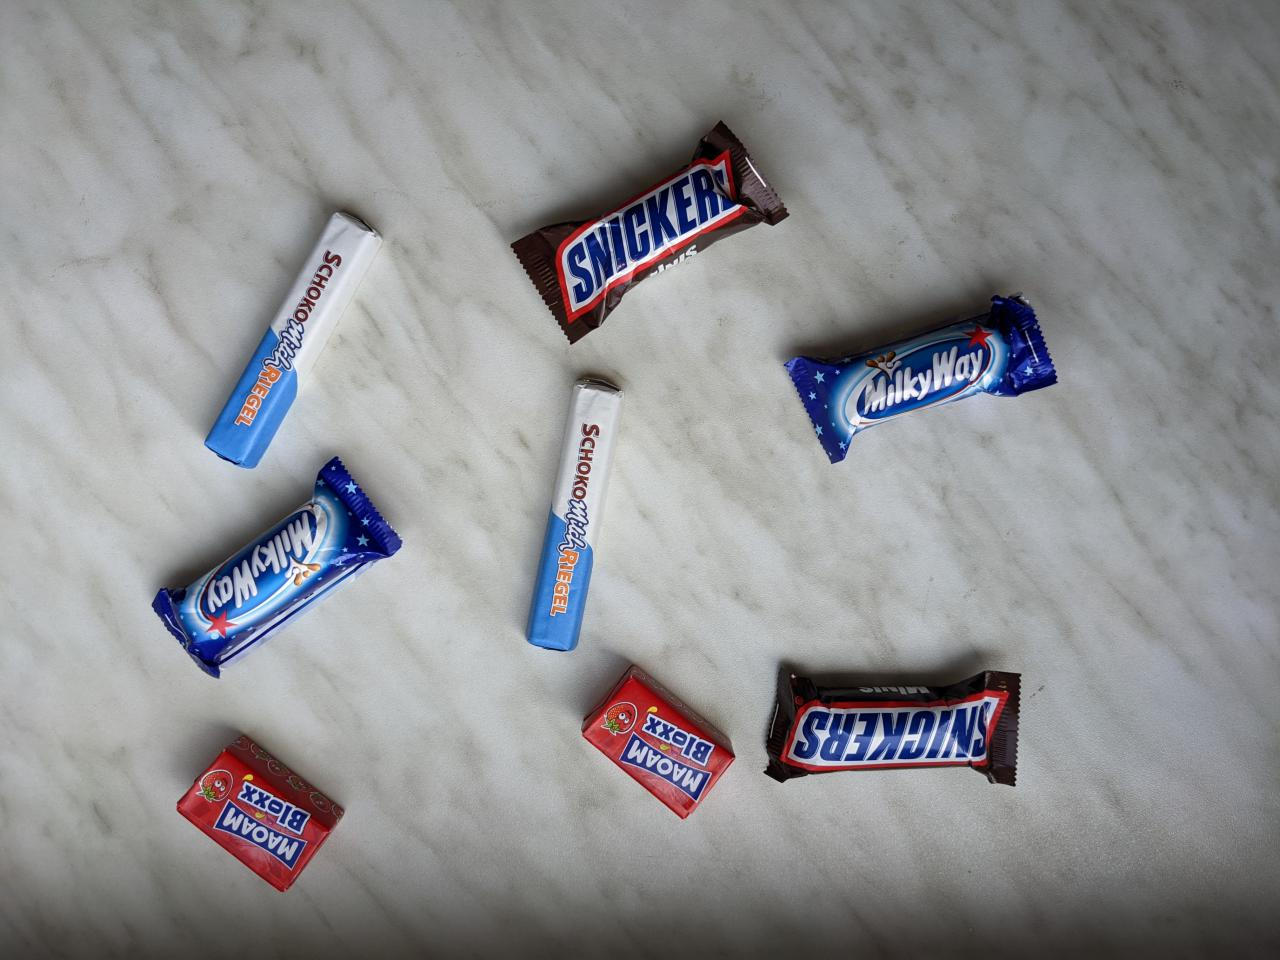MAOAM: (171, 729, 348, 898), (577, 659, 741, 824)
MilkyWay: (144, 451, 409, 684), (776, 288, 1065, 468)
Schokoriegel: (196, 203, 389, 473), (519, 369, 632, 654)
Snickers: (505, 114, 795, 349), (757, 657, 1025, 794)
